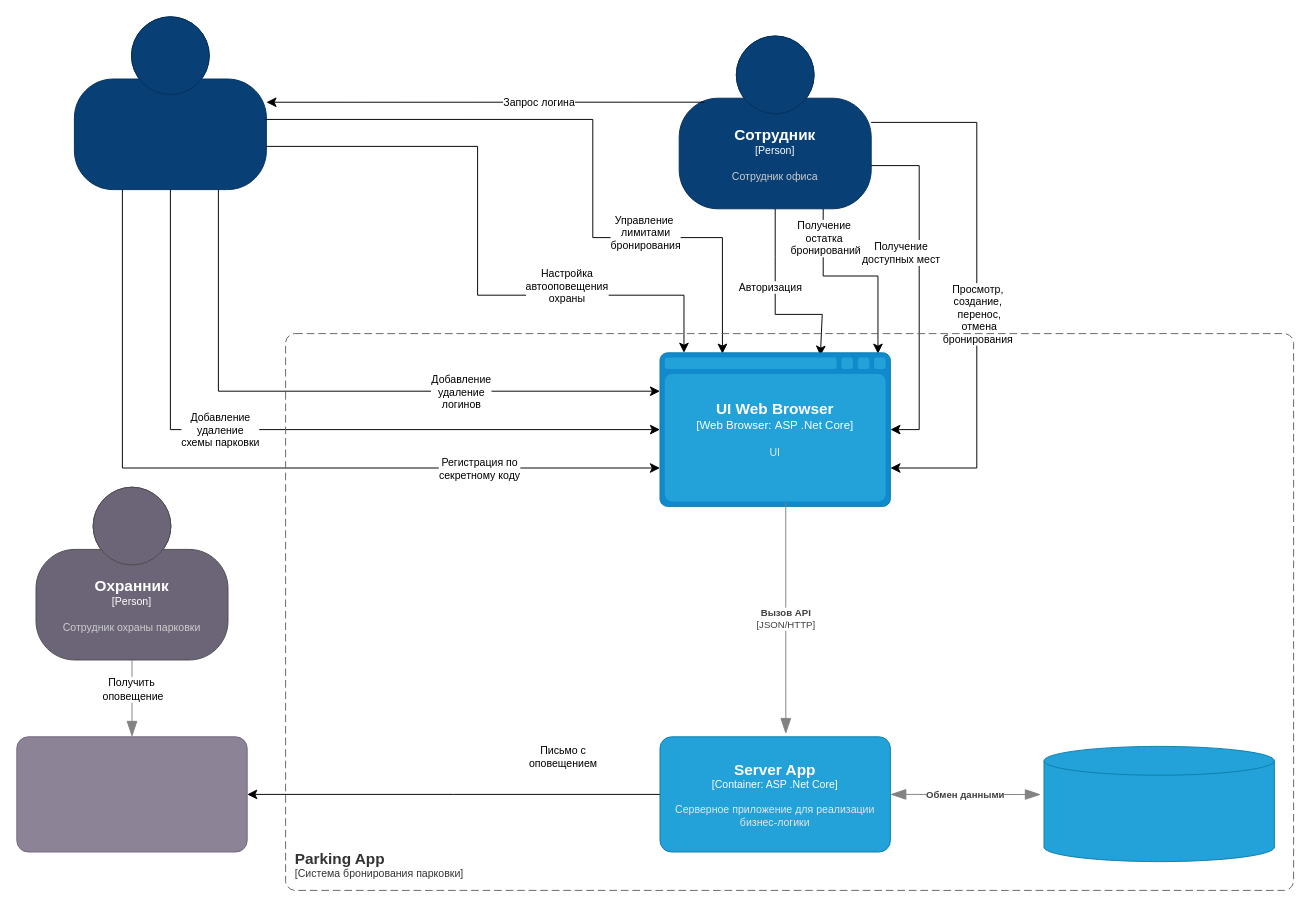
The diagram is 1310 pixels wide and 907 high, and some of its shapes have lost their labels. The centre of each missing label's shape, as x and y in pixels:
Storage [Хранение файлов БД и бэкапов: File] Файловое хранилище: (1158,803)
Офис-менеджер [Person]: (169,103)
Электронная почта [Software System] Сервис электронной почты: (131,794)
